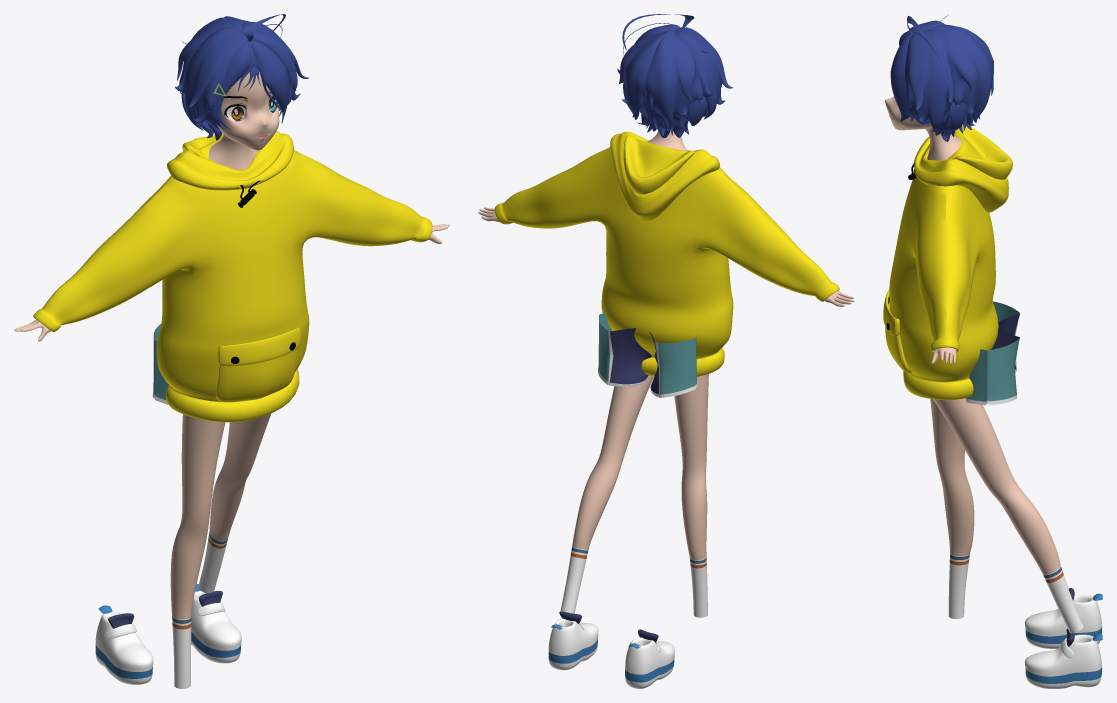
Rendered from ohto-longboard-rider.glb.
The picture shows the model from 3 angles, left to right: view 1: azimuth 30°, elevation 25°; view 2: azimuth 150°, elevation 25°; view 3: azimuth 270°, elevation 25°; orthographic projection. The views are drawn at different scales.
Parts seen in each view (by area): view 1: yello collouru cotu, full body, mudi cover, shoes, menadi mudi; view 2: yello collouru cotu, full body, mudi cover, trouser, shoes; view 3: yello collouru cotu, full body, mudi cover, shoes, trouser, menadi mudi.
Boxes of the visible parts, bbox=[...] form: yello collouru cotu: bbox=[33, 131, 432, 422]; full body: bbox=[14, 71, 449, 688]; mudi cover: bbox=[175, 16, 308, 140]; shoes: bbox=[95, 584, 241, 684]; menadi mudi: bbox=[182, 14, 289, 130]; yello collouru cotu: bbox=[494, 131, 839, 376]; full body: bbox=[478, 130, 854, 617]; mudi cover: bbox=[617, 24, 733, 137]; trouser: bbox=[598, 312, 697, 397]; shoes: bbox=[548, 611, 674, 688]; yello collouru cotu: bbox=[883, 124, 1012, 400]; full body: bbox=[885, 96, 1083, 633]; mudi cover: bbox=[905, 20, 993, 141]; shoes: bbox=[1024, 588, 1102, 688]; trouser: bbox=[966, 301, 1019, 405]; menadi mudi: bbox=[890, 14, 955, 136].
Size of the model in its own units: 1.56 by 2.39 by 0.7358.
